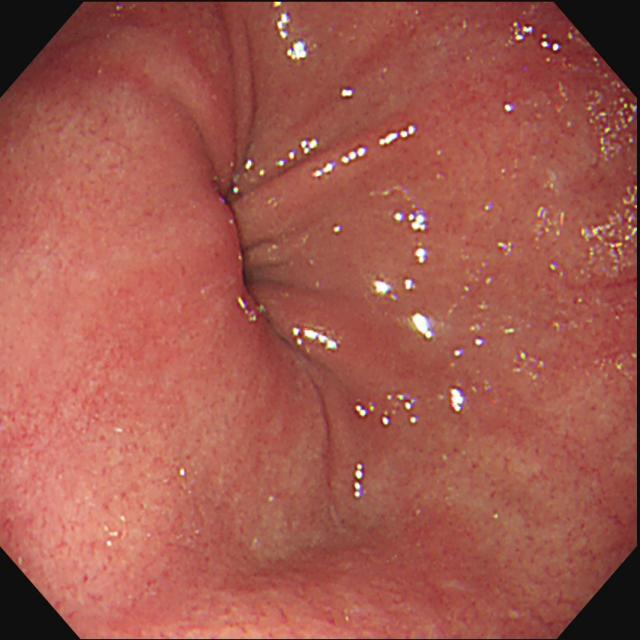I: (168, 81, 343, 444)
U: (369, 210, 435, 342), (309, 123, 418, 179), (586, 59, 638, 158), (583, 182, 639, 263), (354, 392, 420, 427), (272, 2, 308, 63), (505, 20, 565, 52), (291, 323, 341, 355), (273, 137, 319, 171), (230, 159, 267, 196), (350, 461, 368, 501), (448, 384, 468, 417), (340, 85, 358, 101), (502, 101, 517, 115), (330, 223, 344, 237)
